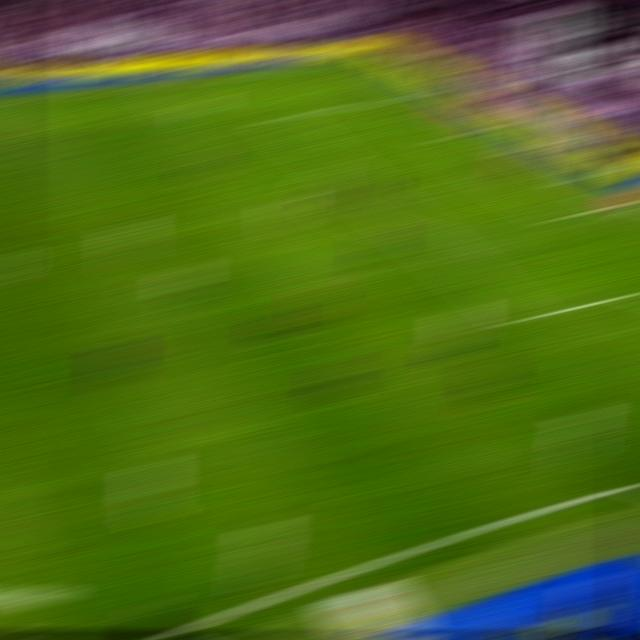bigarea_bottom_inner: (509, 308, 542, 326)
bigarea_top_inner: (262, 112, 291, 121)
bigarea_top_outter: (408, 91, 438, 98)
bottom_arc_area_intersection: (399, 224, 433, 238)
smallarea_bottom_inner: (550, 209, 582, 223)
smallarea_top_inner: (422, 135, 450, 140)
top_arc_area_intersection: (316, 156, 347, 167)
